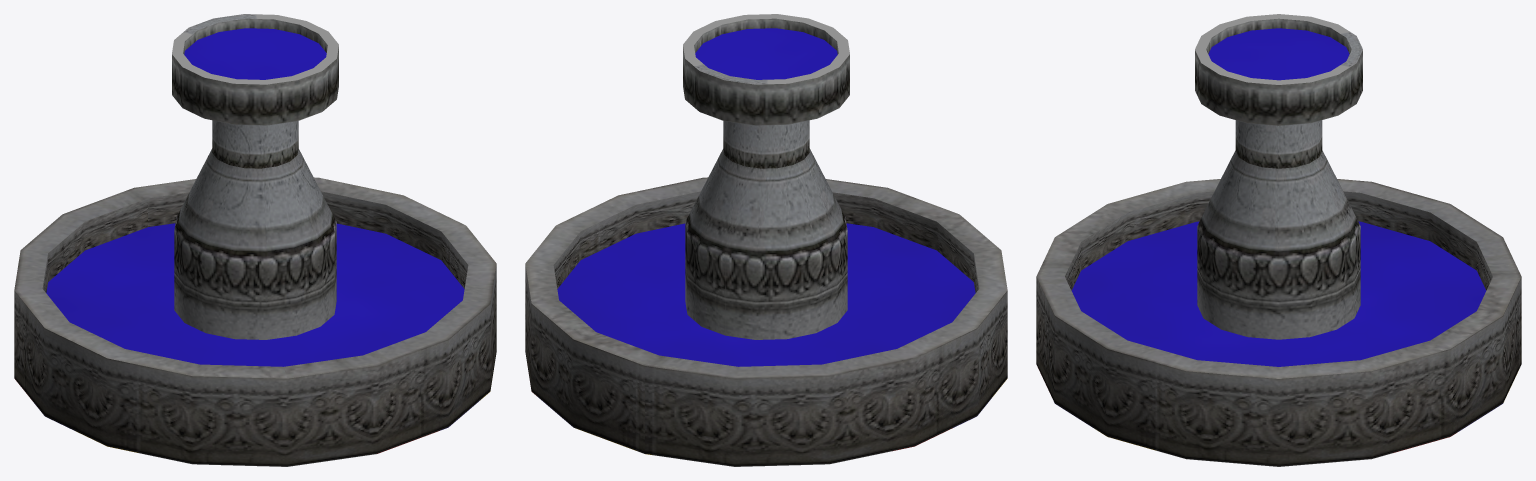
Rendered from Fountain.fbx.
3 views of the same model, side by side, from view 1: azimuth 30°, elevation 25°; view 2: azimuth 150°, elevation 25°; view 3: azimuth 270°, elevation 25° (orthographic).
Visible parts, largest first — view 1: Fountain, Blue Content; view 2: Fountain, Blue Content; view 3: Fountain, Blue Content.
Boxes of the visible parts, left/top/right/bottom form: Fountain: left=14, top=14, right=496, bottom=466; Blue Content: left=46, top=28, right=464, bottom=366; Fountain: left=525, top=14, right=1007, bottom=466; Blue Content: left=557, top=28, right=975, bottom=366; Fountain: left=1036, top=14, right=1521, bottom=466; Blue Content: left=1071, top=28, right=1486, bottom=366.
Bounding box in the file's own units: 2 × 1.43 × 2.
